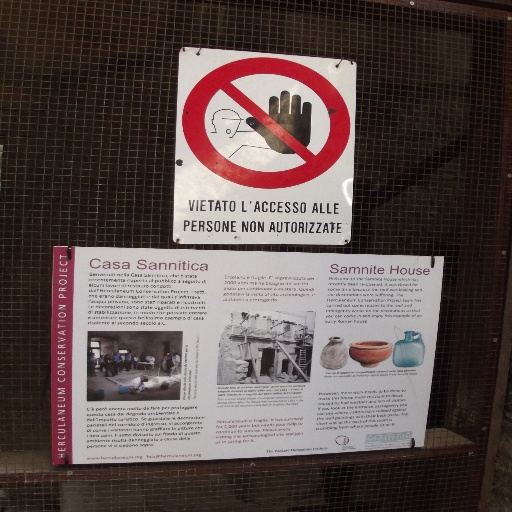hand: (246, 90, 310, 155)
